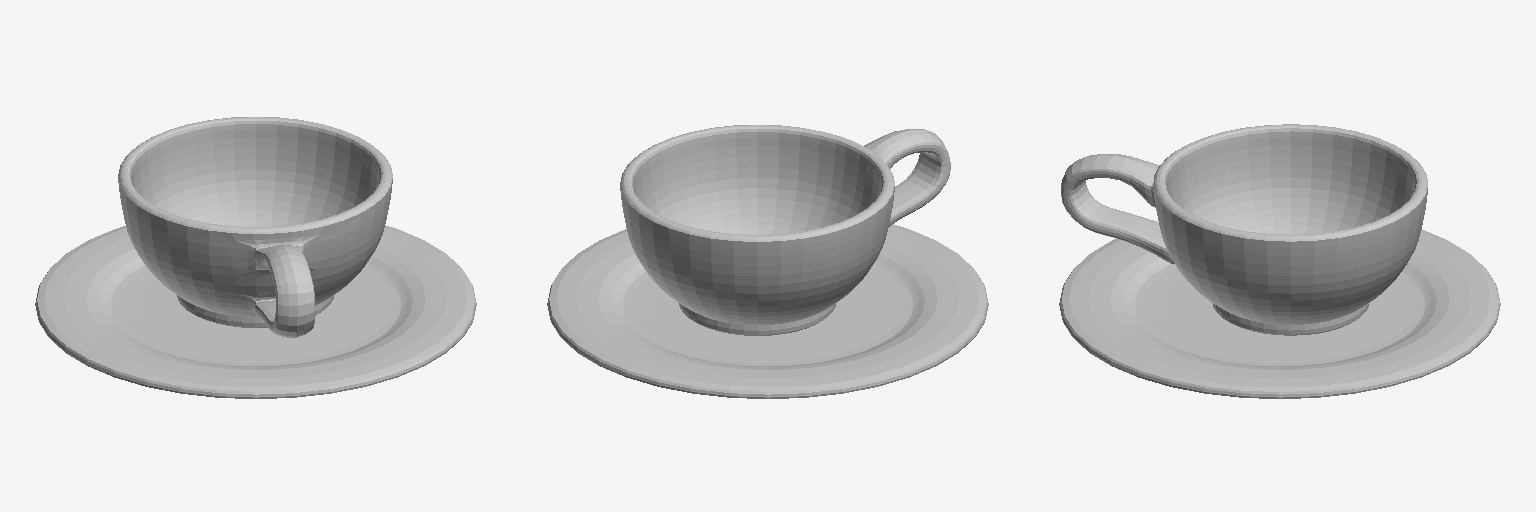
The model's file is cup.obj.
3 renders of one model, left to right at view 1: azimuth 30°, elevation 25°; view 2: azimuth 150°, elevation 25°; view 3: azimuth 270°, elevation 25°, orthographic.
Parts seen in each view (by area): view 1: cup2, plate2; view 2: cup2, plate2; view 3: cup2, plate2.
Boxes of the visible parts, box(x1,y1,x2,y2) form: cup2: box(118, 117, 392, 337); plate2: box(35, 225, 476, 398); cup2: box(620, 125, 950, 335); plate2: box(547, 224, 988, 398); cup2: box(1061, 124, 1427, 335); plate2: box(1059, 230, 1500, 398).
Bounding box in the file's own units: 0.3439 × 0.1342 × 0.3439.